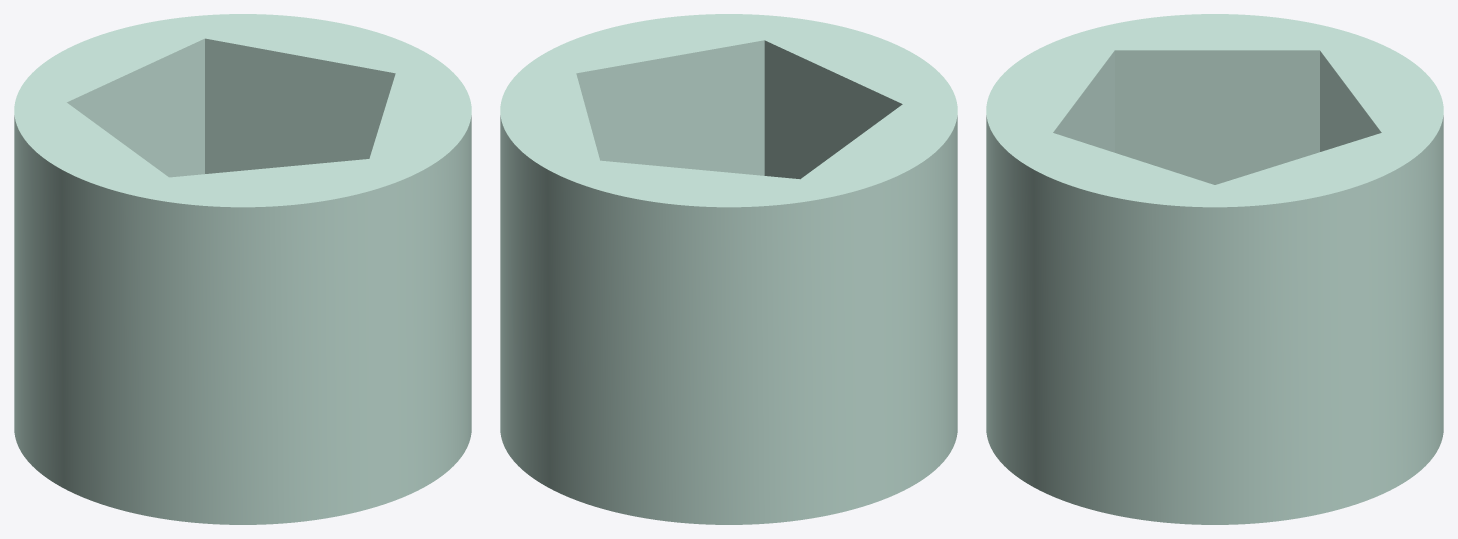
The picture shows the model from 3 angles, left to right: view 1: azimuth 30°, elevation 25°; view 2: azimuth 150°, elevation 25°; view 3: azimuth 270°, elevation 25°; orthographic projection.
Visible parts, largest first — view 1: Renderer Node; view 2: Renderer Node; view 3: Renderer Node.
Part boxes in pixels (x1=…): Renderer Node: x1=14, y1=14, x2=471, y2=524; Renderer Node: x1=500, y1=14, x2=957, y2=524; Renderer Node: x1=986, y1=14, x2=1443, y2=524.
Bounding box in the file's own units: 0.4893 × 0.375 × 0.4895.
